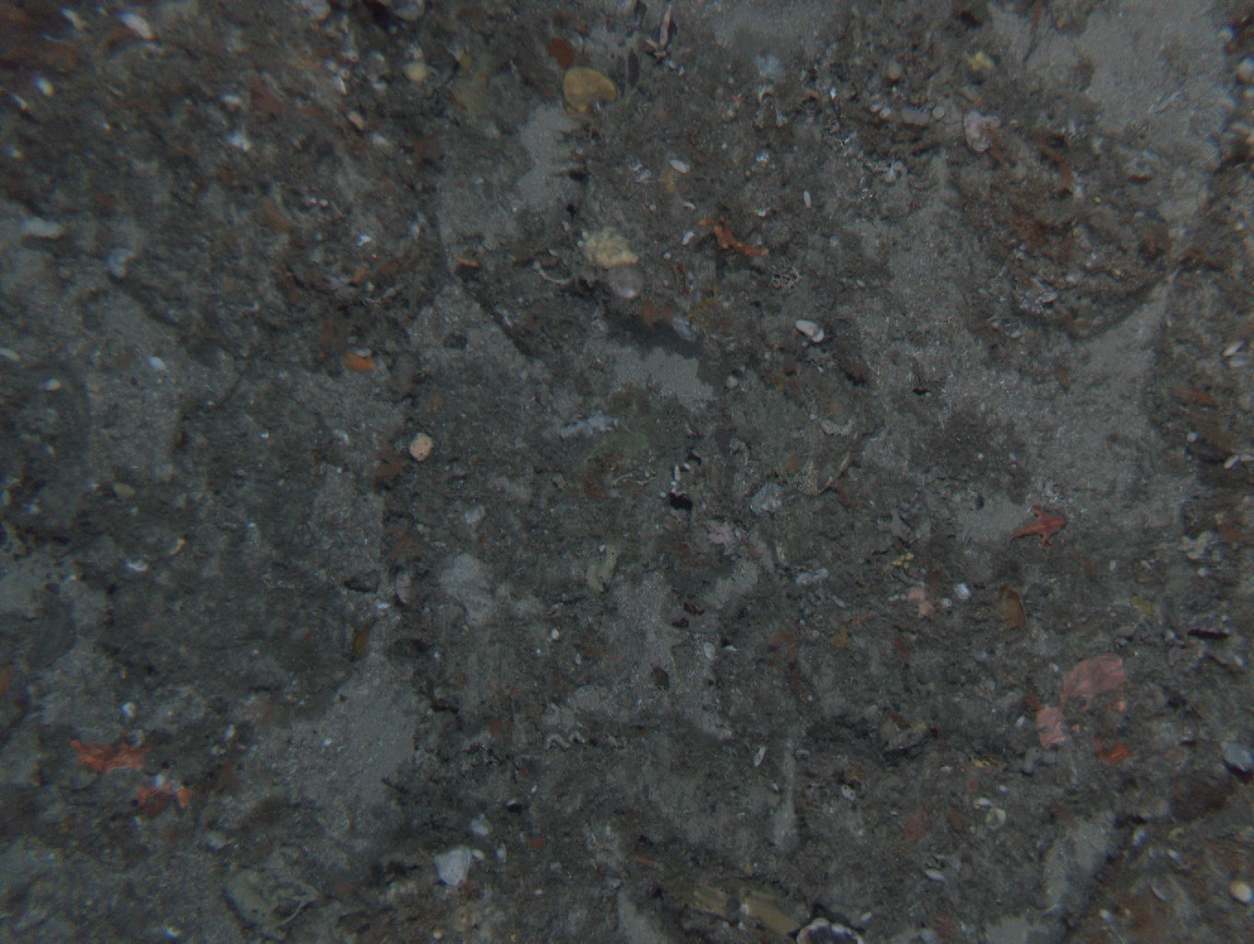Brachionichthyidae: (1006, 504, 1069, 551)
